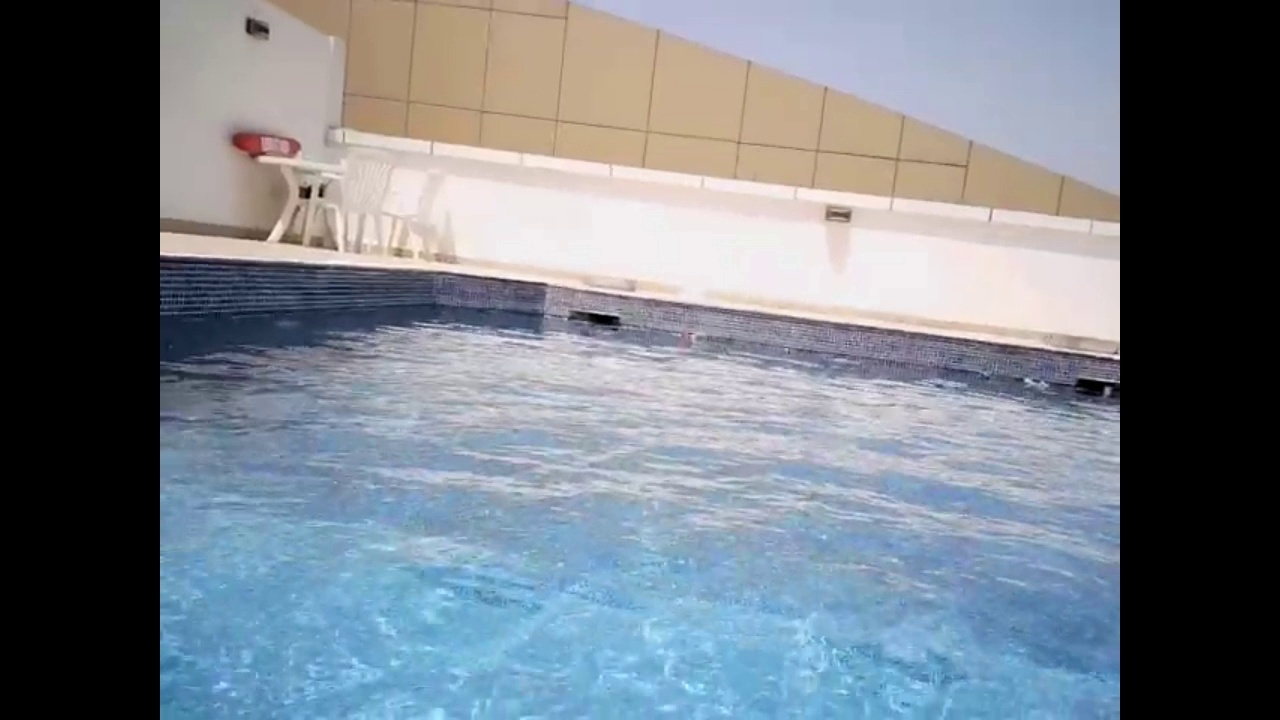debris: (1020, 374, 1038, 393), (1031, 381, 1051, 394), (1102, 383, 1114, 399)
